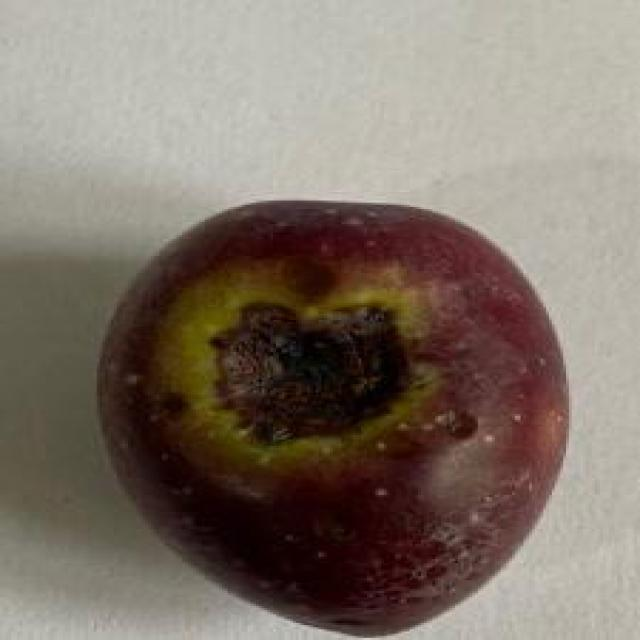Olive Fruit Fly: (100, 201, 563, 631)
